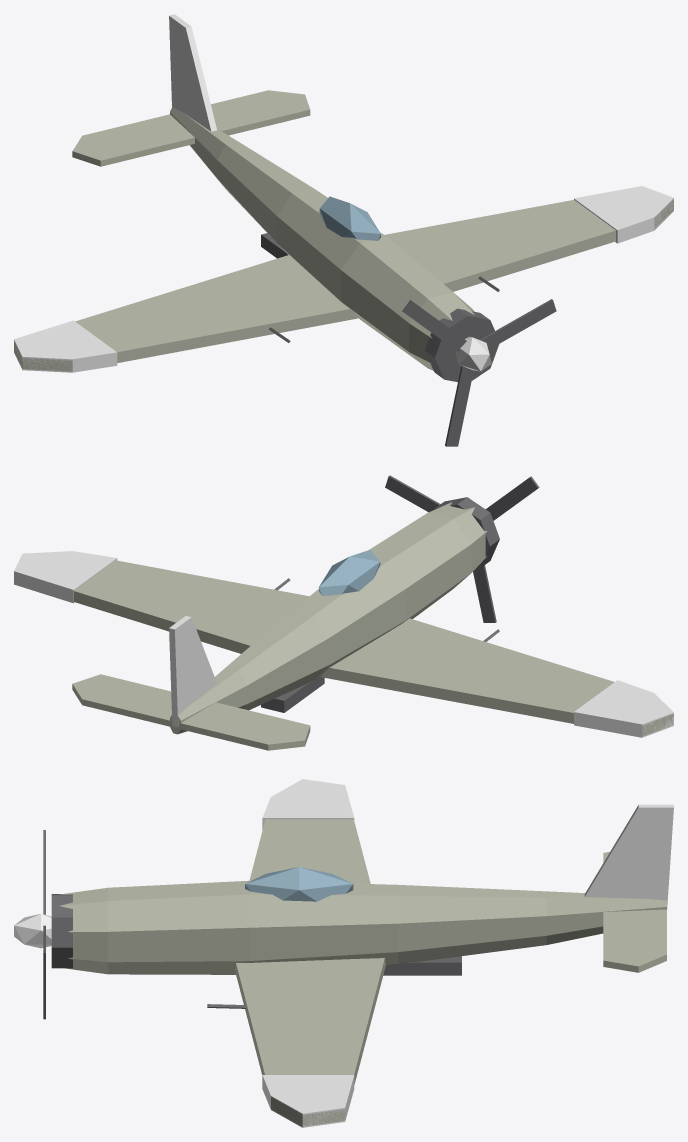
The model's file is civ_unit_fighter.glb.
The picture shows the model from 3 angles, top to bottom: view 1: azimuth 30°, elevation 25°; view 2: azimuth 150°, elevation 25°; view 3: azimuth 270°, elevation 25°; orthographic projection. The views are drawn at different scales.
Parts seen in each view (by area): view 1: civ_unit_fighter; view 2: civ_unit_fighter; view 3: civ_unit_fighter.
Boxes of the visible parts, box(x1,y1,x2,y2) form: civ_unit_fighter: box(14, 14, 673, 446); civ_unit_fighter: box(14, 475, 673, 750); civ_unit_fighter: box(14, 779, 673, 1127).
Size of the model in its own units: 11.2 by 3.44 by 9.33.
